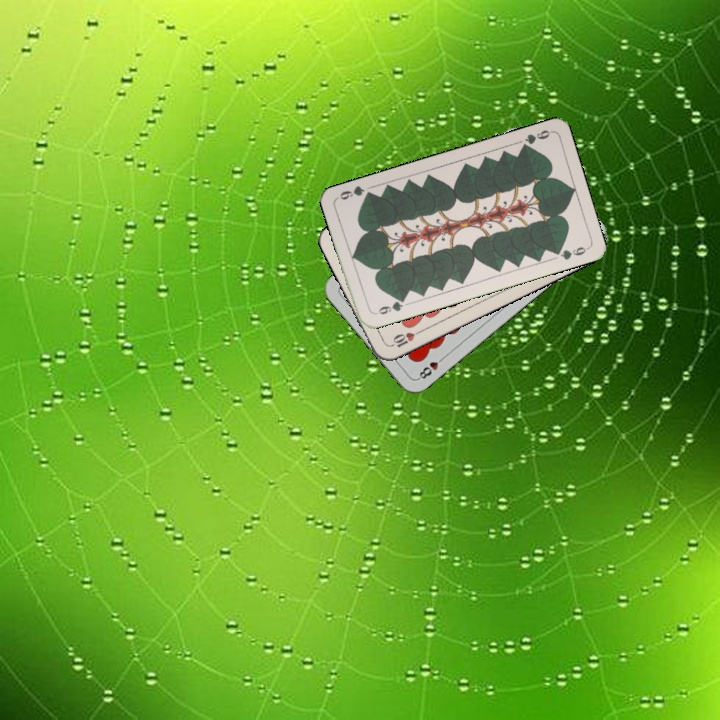G9: (517, 126, 554, 152), (370, 294, 408, 317)
H10: (386, 326, 424, 350)
H8: (413, 352, 448, 382)
